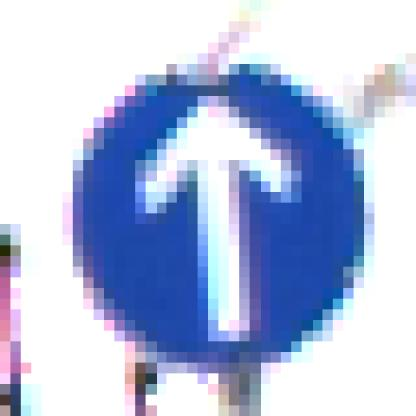AheadOnly: (63, 54, 365, 364)
